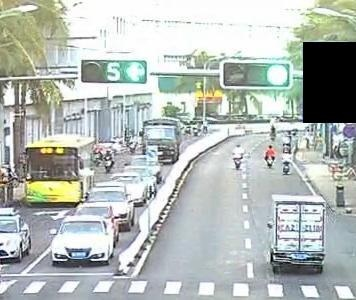green: (266, 63, 289, 87)
greenleft: (125, 61, 145, 82)
greentime: (105, 61, 123, 82)
